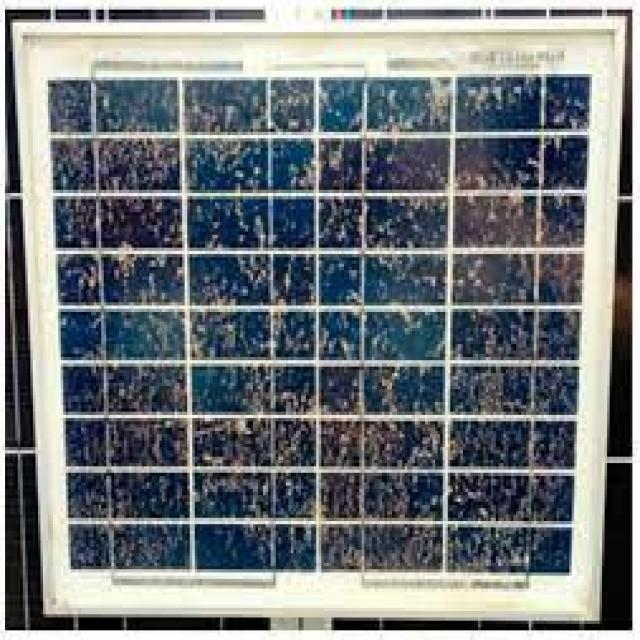faulty: (19, 21, 626, 619)
